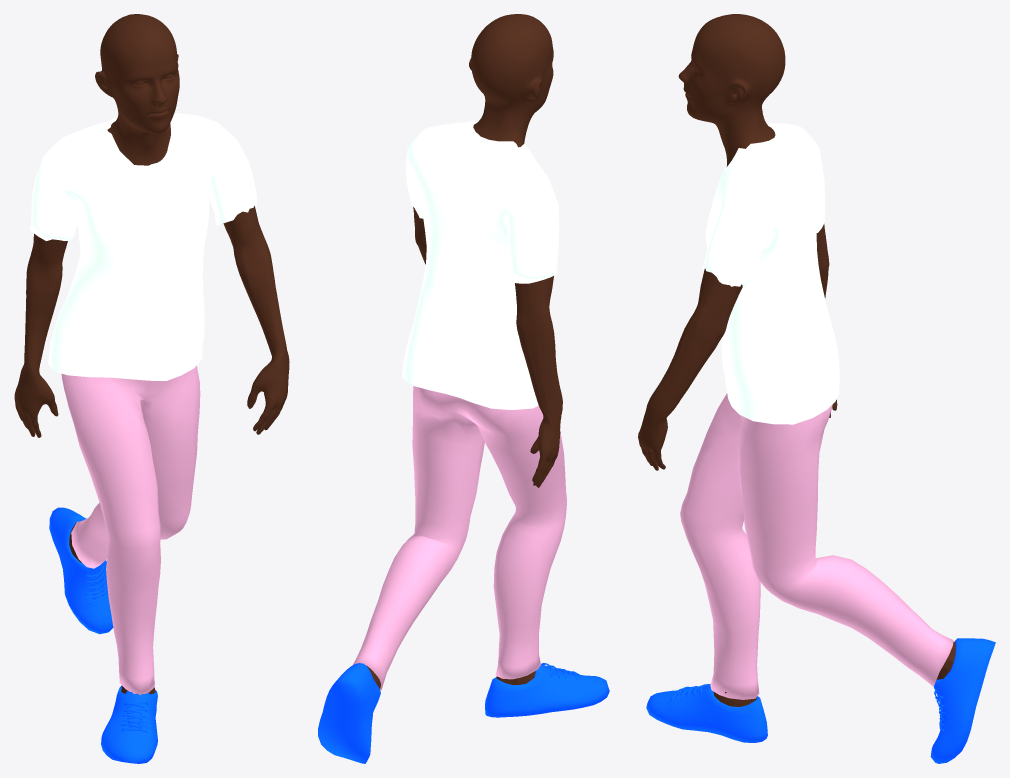
The model's file is people3.glb.
3 views of the same model, side by side, from view 1: azimuth 30°, elevation 25°; view 2: azimuth 150°, elevation 25°; view 3: azimuth 270°, elevation 25° (orthographic). The views are drawn at different scales.
Parts seen in each view (by area): view 1: Top.002, Bottoms.002, Body.002, Shoes.002; view 2: Top.002, Bottoms.002, Body.002, Shoes.002; view 3: Bottoms.002, Top.002, Body.002, Shoes.002.
Boxes of the visible parts, x1,y1,x2,y2 form: Top.002: (30, 113, 256, 380); Bottoms.002: (61, 365, 200, 695); Body.002: (14, 14, 289, 694); Shoes.002: (49, 507, 157, 763); Top.002: (402, 120, 559, 409); Bottoms.002: (353, 386, 566, 690); Body.002: (366, 14, 562, 689); Shoes.002: (318, 663, 609, 763); Bottoms.002: (680, 393, 953, 699); Top.002: (702, 122, 839, 424); Body.002: (638, 14, 955, 706); Shoes.002: (646, 638, 995, 763).
Size of the model in its own units: 0.4792 by 1.66 by 0.7516.
